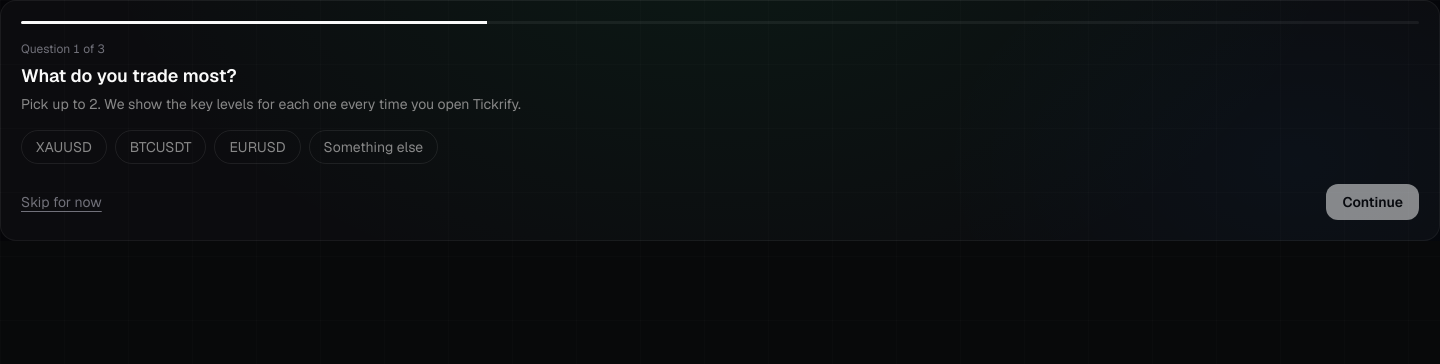
Scenario: quiz de conta nova › quem perde o movimento por estar longe sai com o alerta ligado em cada ativo
The image size is (1440, 364).
Click the button "XAUUSD" at (64, 147), box [21,130,107,164]
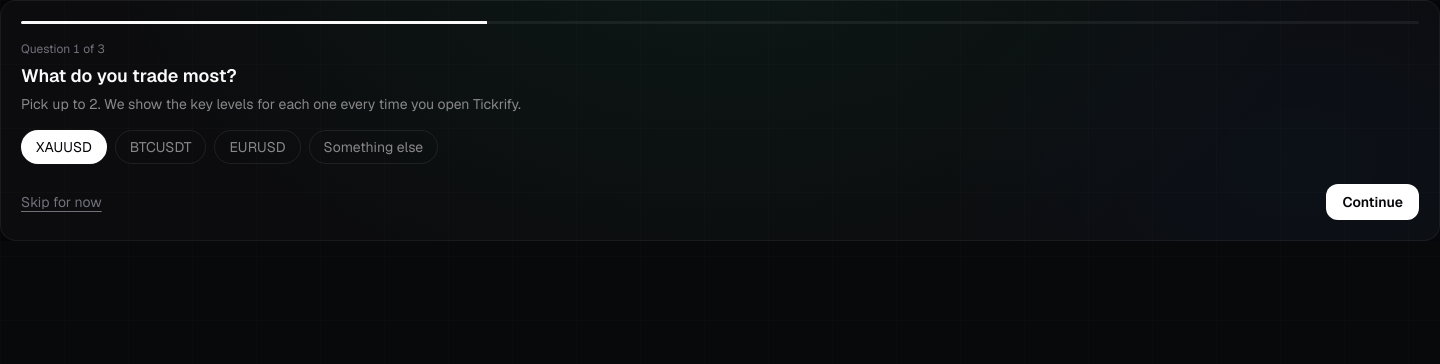
Click the button "Continue" at (1373, 202), box [1326,184,1419,220]
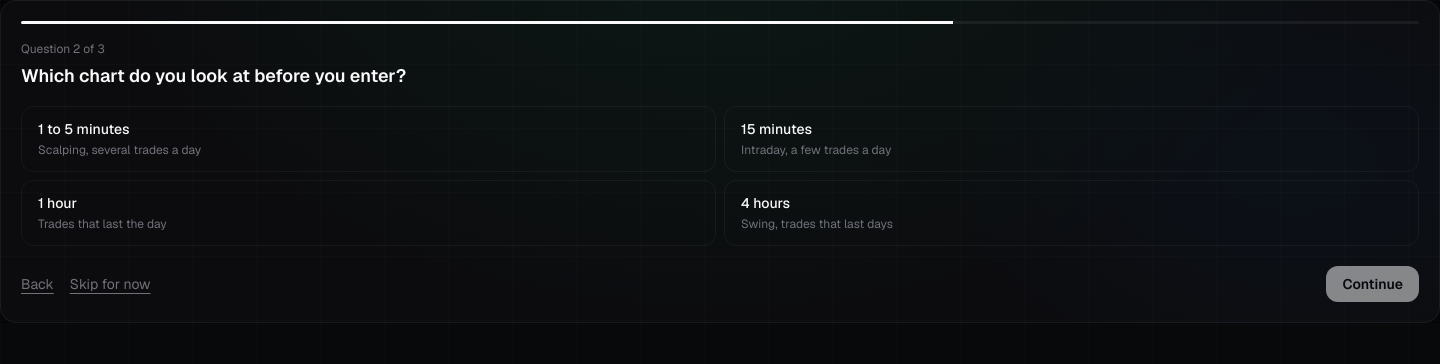
Click the radio button labelled "15 minutes Intraday, a few trades a day" at (776, 129), box [724,106,1419,172]
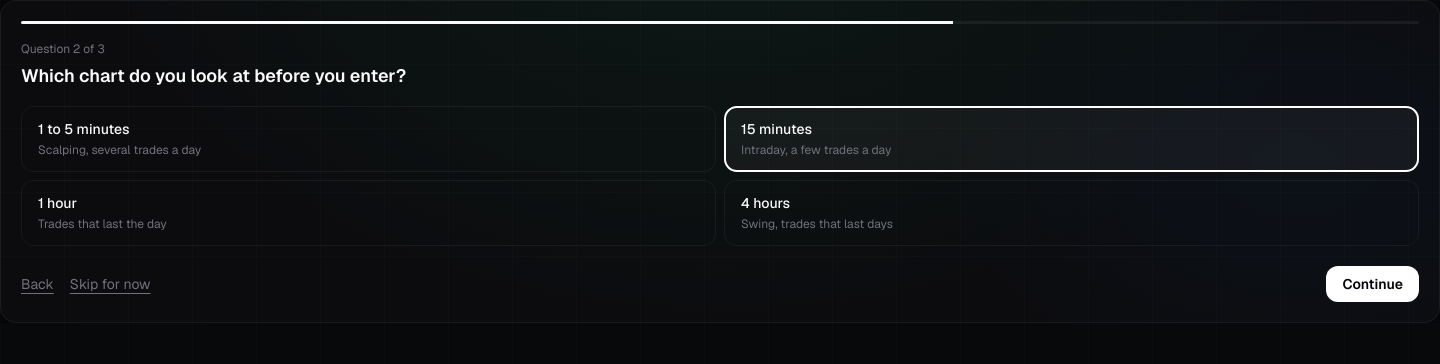
Click the button "Continue" at (1373, 284), box [1326,266,1419,302]
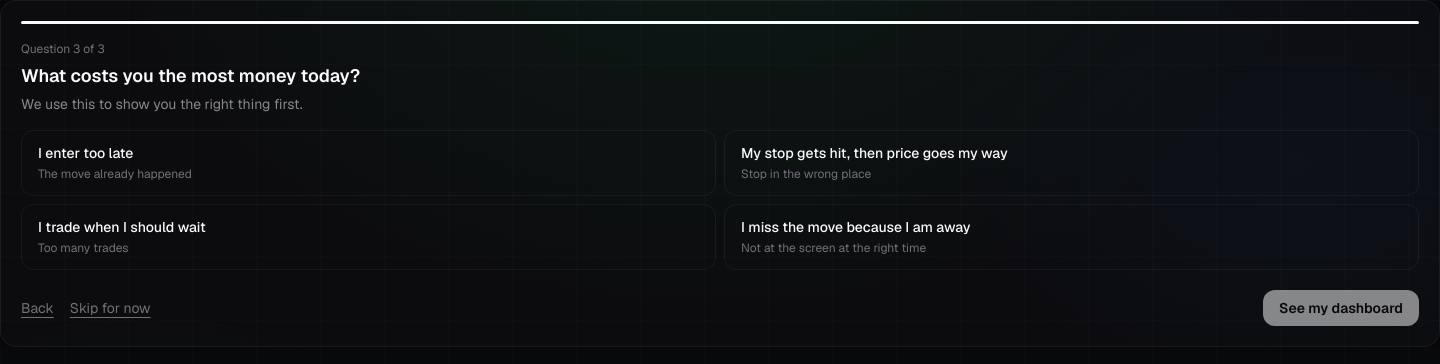
Click the radio button labelled "I miss the move" at (856, 227), box [724,204,1419,270]
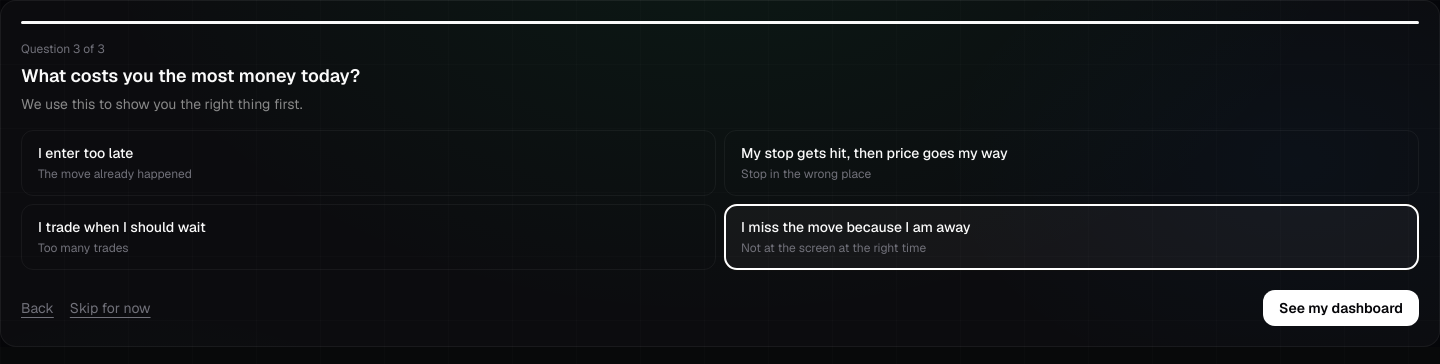
Click the button "See my dashboard" at (1341, 308), box [1263,290,1419,326]
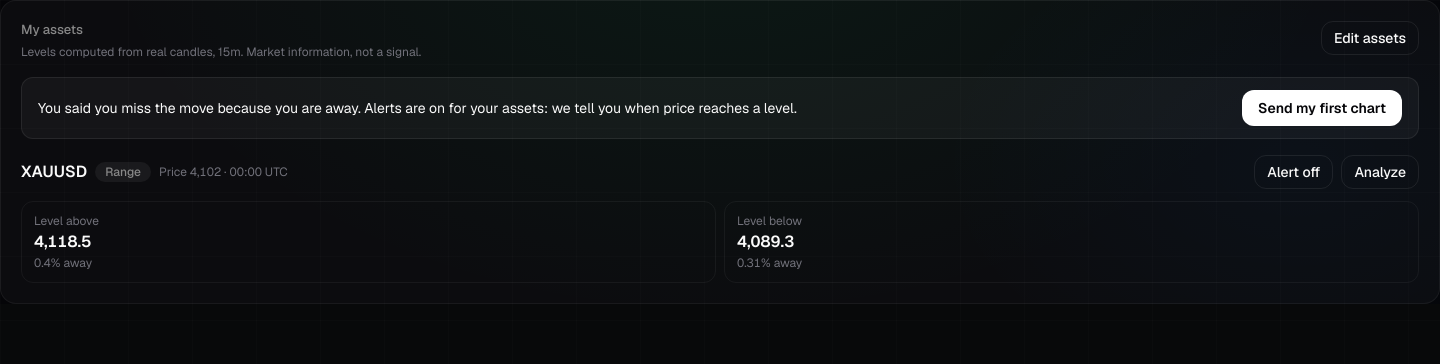
expect the text "Alerts are on for your assets" is shown: met, box [38,99,797,117]
